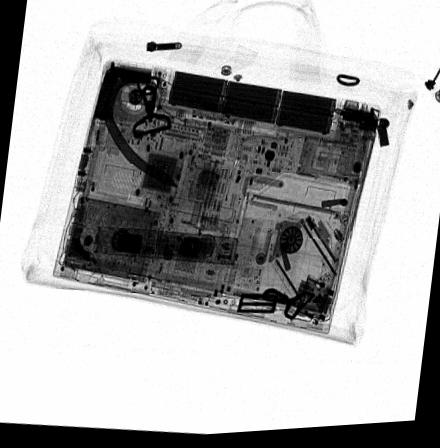Baton: (94, 227, 238, 269)
